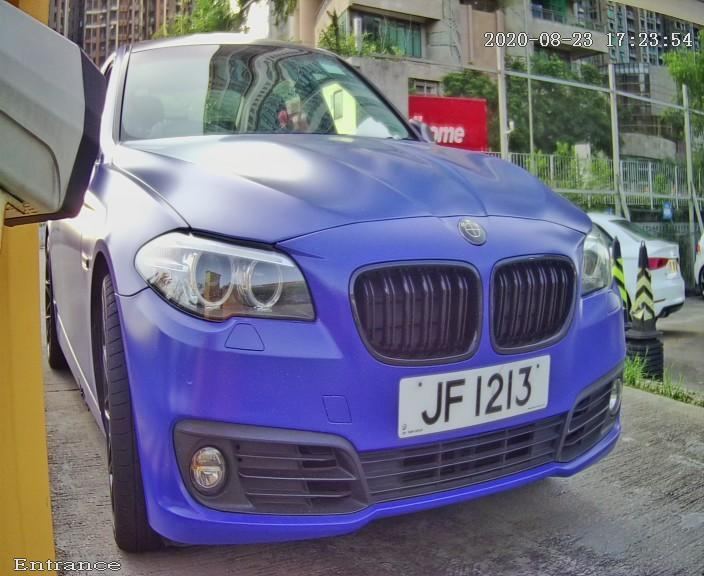Car: (13, 6, 670, 576)
License Plate: (369, 327, 576, 461)
